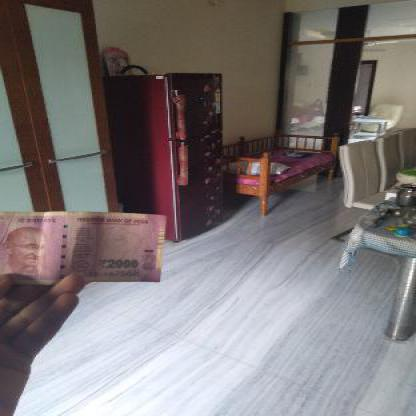New2000Front: (1, 209, 162, 284)
